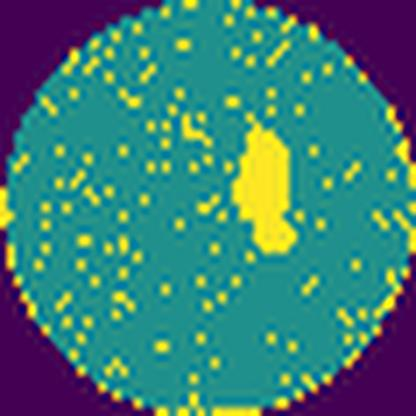Loc: (232, 113, 297, 255)
